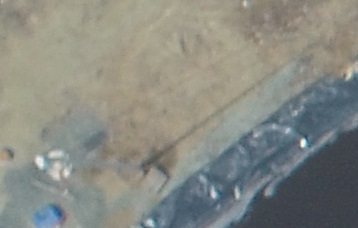opora: (60, 147, 166, 171)
